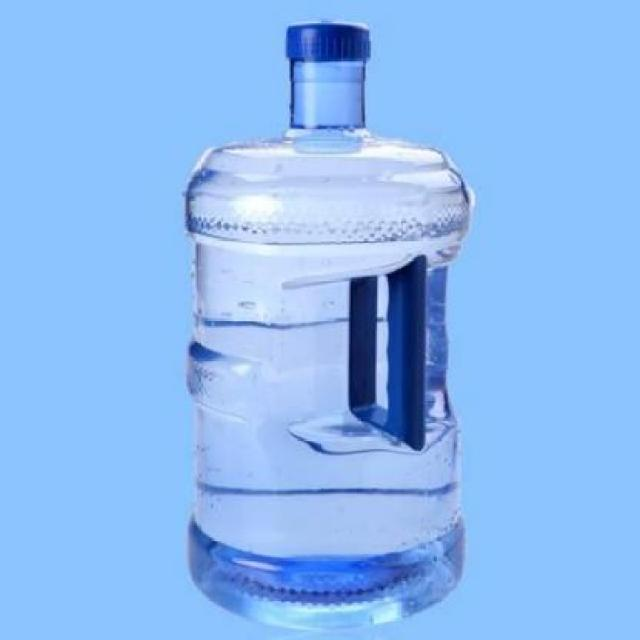coolerbottle: (183, 17, 475, 631)
